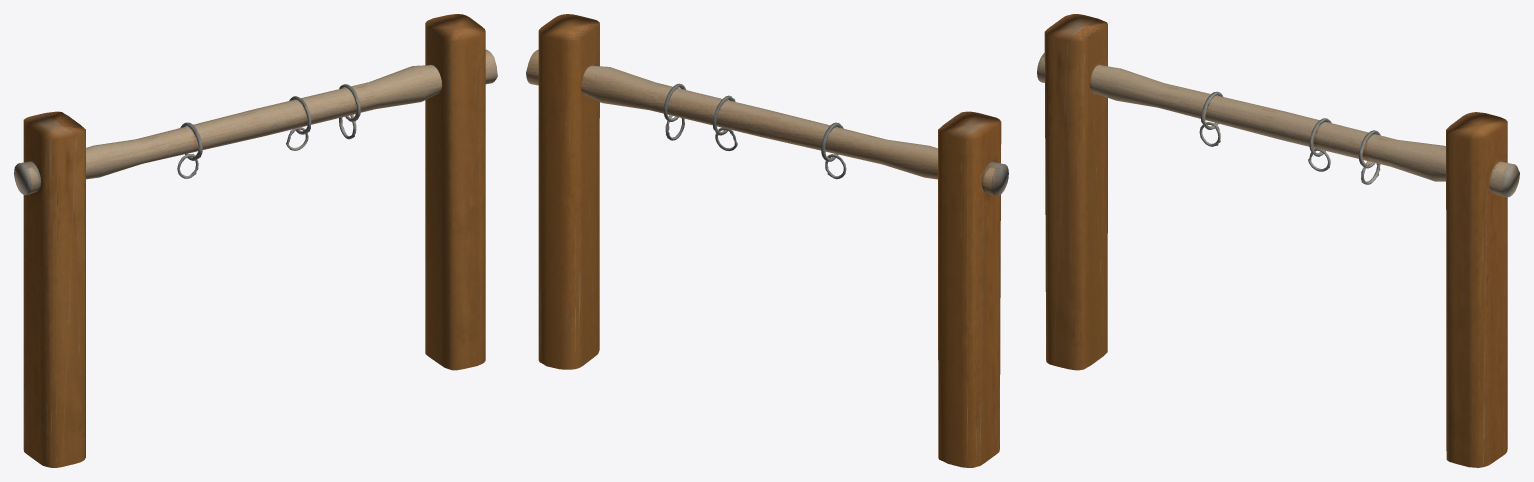
Rendered from hitching_post.glb.
3 views of the same model, side by side, from view 1: azimuth 30°, elevation 25°; view 2: azimuth 150°, elevation 25°; view 3: azimuth 330°, elevation 25° (orthographic).
Visible parts, largest first — view 1: hitching_post; view 2: hitching_post; view 3: hitching_post.
Part boxes in pixels (bbox=[...]): hitching_post: bbox=[14, 14, 497, 467]; hitching_post: bbox=[526, 14, 1008, 467]; hitching_post: bbox=[1037, 14, 1519, 467].
Size of the model in its own units: 1.7 by 1.15 by 0.198.
Materials: 1 (1 with a texture image).
